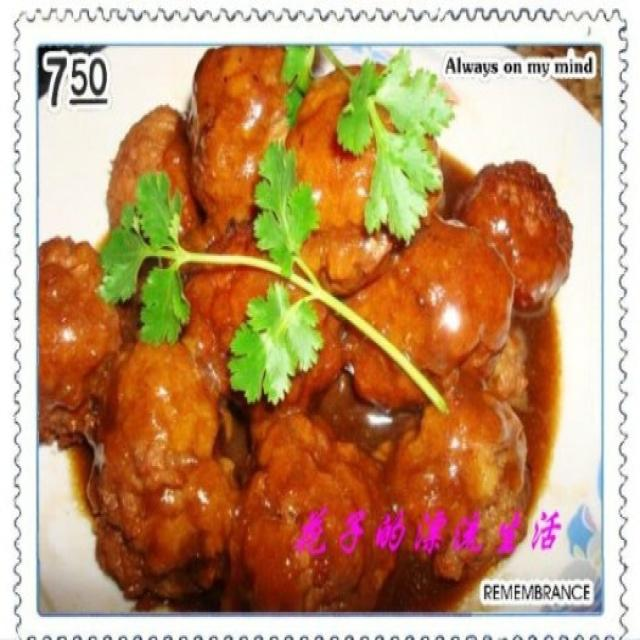猪肉菜式: (44, 48, 579, 602)
